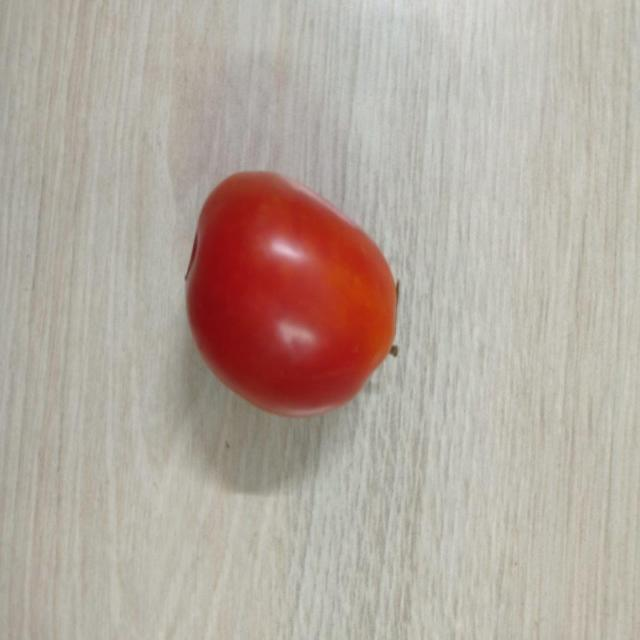Tomato: (183, 166, 405, 420)
